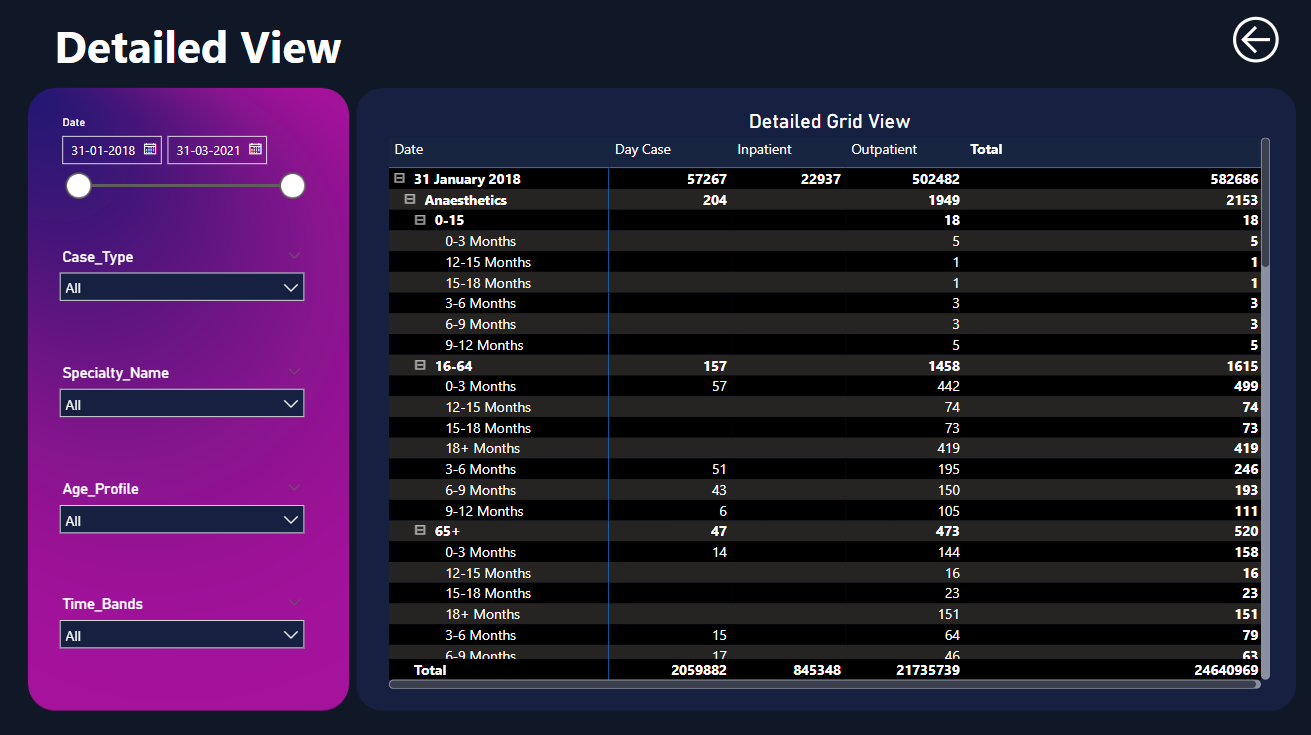

Layout of this report page (visuals, bound fields, positions):
{"tool":"powerbi","page":{"name":"Detail","canvas":[1280,720],"ordinal":1},"visuals":[{"type":"slicer","fields":{"Values":["Calendar_Table.Date"]},"box":[48,112,256,96],"z":0},{"type":"slicer","fields":{"Values":["All_Data.Case_Type"]},"box":[48,240,256,80],"z":1000},{"type":"slicer","fields":{"Values":["All_Data.Specialty_Name"]},"box":[48,352,256,80],"z":2000},{"type":"slicer","fields":{"Values":["All_Data.Age_Profile"]},"box":[48,464,256,80],"z":3000},{"type":"slicer","fields":{"Values":["All_Data.Time_Bands"]},"box":[48,576,256,80],"z":4000},{"type":"textbox","box":[48,16,400,80],"z":5000},{"type":"pivotTable","title":"Detailed Grid View","fields":{"Rows":["All_Data.Archive_Date","All_Data.Specialty_Name","All_Data.Age_Profile","All_Data.Time_Bands"],"Columns":["All_Data.Case_Type"],"Values":["Calculation_Table.Total_Waitlist"]},"box":[371.6,112.2,860.2,563.4],"z":6000},{"type":"actionButton","box":[1184.7,15.7,85.7,56.7],"z":7000}]}

Visuals, with their boxes in screenshot pixels (x1, y1, x2, y2), scaled from the page's 1280x720 canvas onto the 1311x735 screenshot:
slicer - Calendar_Table.Date: 49,114,311,212
slicer - All_Data.Case_Type: 49,245,311,327
slicer - All_Data.Specialty_Name: 49,359,311,441
slicer - All_Data.Age_Profile: 49,474,311,555
slicer - All_Data.Time_Bands: 49,588,311,670
textbox: 49,16,459,98
"Detailed Grid View" pivotTable: 381,115,1262,690
actionButton: 1213,16,1301,74
